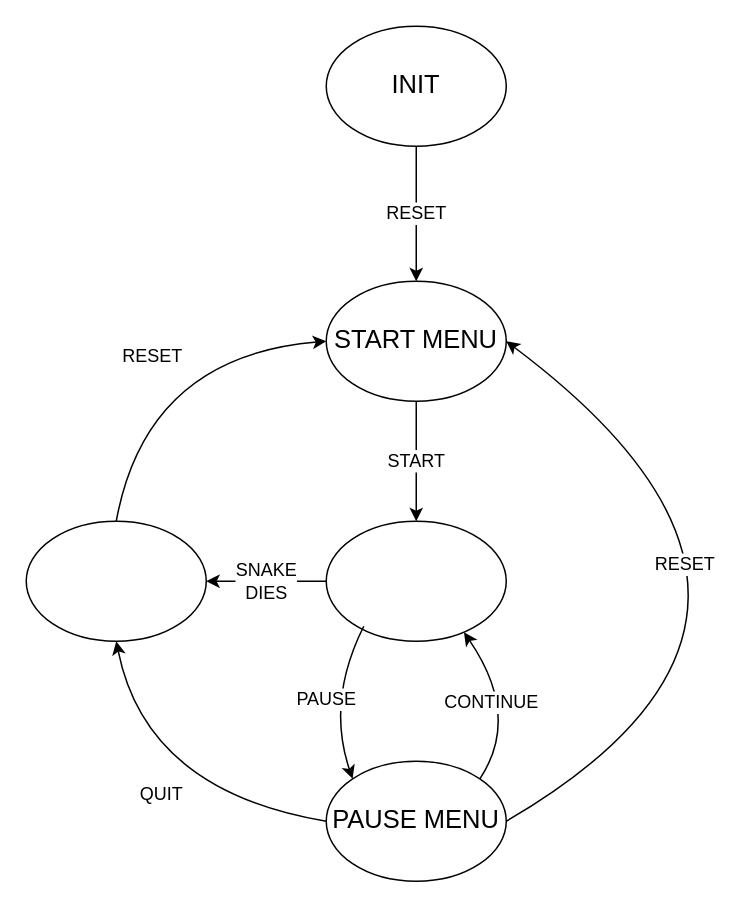
Some shapes in this 741 by 908 pixel diagram are drawn without their labels. The shapes that lost their labels are listed below. From the top down, each one's box as (x1, y1, x2, y2) in pixels, then its label:
(25, 520, 206, 641): GAME OVER
(325, 520, 506, 641): SNAKE GAME
